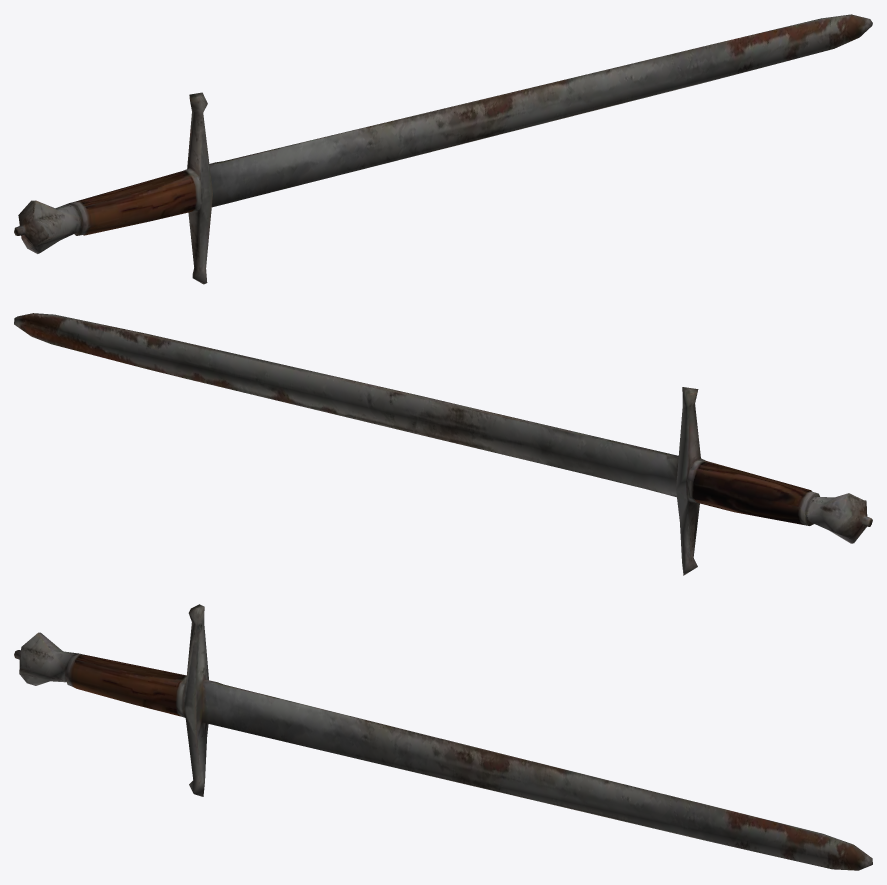
File: sword_pbr.glb
The picture shows the model from 3 angles, top to bottom: view 1: azimuth 30°, elevation 25°; view 2: azimuth 150°, elevation 25°; view 3: azimuth 330°, elevation 25°; orthographic projection.
Parts seen in each view (by area): view 1: uitlbiaga_LOD0_TIER3_000_MatID_1_0; view 2: uitlbiaga_LOD0_TIER3_000_MatID_1_0; view 3: uitlbiaga_LOD0_TIER3_000_MatID_1_0.
Boxes of the visible parts, x1,y1,x2,y2 form: uitlbiaga_LOD0_TIER3_000_MatID_1_0: (14,14,872,284); uitlbiaga_LOD0_TIER3_000_MatID_1_0: (14,313,872,575); uitlbiaga_LOD0_TIER3_000_MatID_1_0: (14,604,872,870).
Size of the model in its own units: 1.2 by 0.2548 by 0.0697.
Materials: 1 (1 with a texture image).
